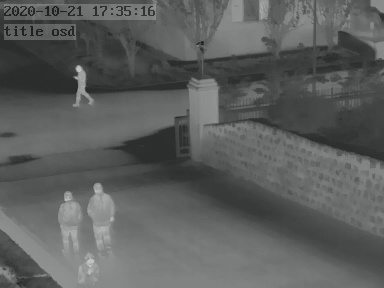person: (84, 177, 119, 259), (56, 185, 81, 252), (73, 64, 92, 104), (78, 253, 98, 288)
